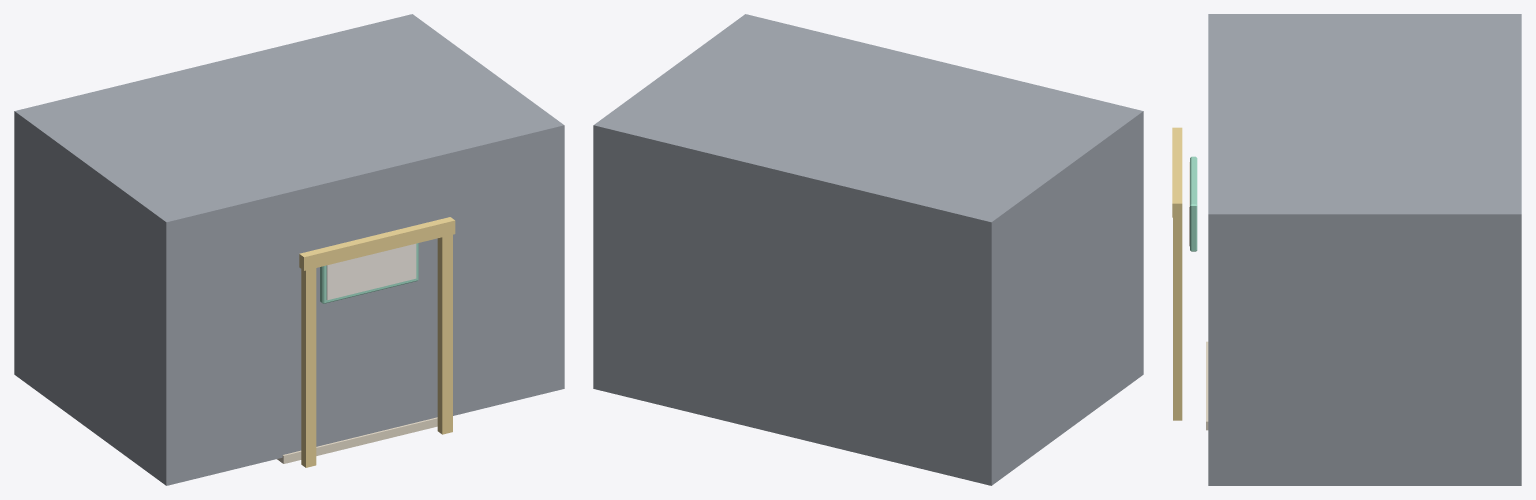
File: CleanACat_Area_GardenBuilding.fbx
3 views of the same model, side by side, from view 1: azimuth 30°, elevation 25°; view 2: azimuth 150°, elevation 25°; view 3: azimuth 270°, elevation 25° (orthographic). The views are drawn at different scales.
Parts seen in each view (by area): view 1: CleanACat_Area_GardenBuilding_Barrier, CleanACat_Area_GardenBuilding, CleanACat_Area_GardenBuilding_Screen, CleanACat_Area_GardenBuilding_Sign_Decor; view 2: CleanACat_Area_GardenBuilding_Barrier; view 3: CleanACat_Area_GardenBuilding_Barrier, CleanACat_Area_GardenBuilding, CleanACat_Area_GardenBuilding_Sign_Decor.
Boxes of the visible parts, x1=… form: CleanACat_Area_GardenBuilding_Barrier: x1=14, y1=14, x2=564, y2=485; CleanACat_Area_GardenBuilding: x1=277, y1=217, x2=455, y2=467; CleanACat_Area_GardenBuilding_Screen: x1=326, y1=243, x2=416, y2=300; CleanACat_Area_GardenBuilding_Sign_Decor: x1=320, y1=243, x2=418, y2=303; CleanACat_Area_GardenBuilding_Barrier: x1=593, y1=14, x2=1143, y2=485; CleanACat_Area_GardenBuilding_Barrier: x1=1208, y1=14, x2=1521, y2=485; CleanACat_Area_GardenBuilding: x1=1172, y1=127, x2=1208, y2=430; CleanACat_Area_GardenBuilding_Sign_Decor: x1=1190, y1=156, x2=1197, y2=251.
Size of the model in its own units: 18.96 by 12.28 by 13.97.
Materials: 1 (1 with a texture image).
